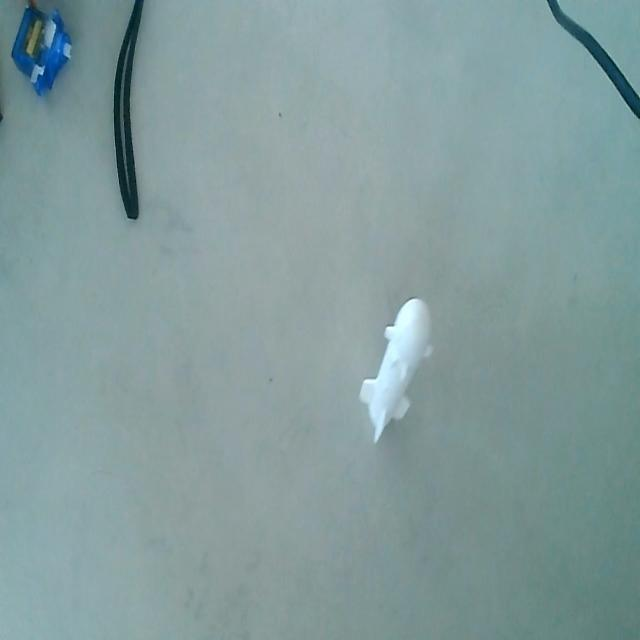Rocket: (352, 290, 437, 462)
